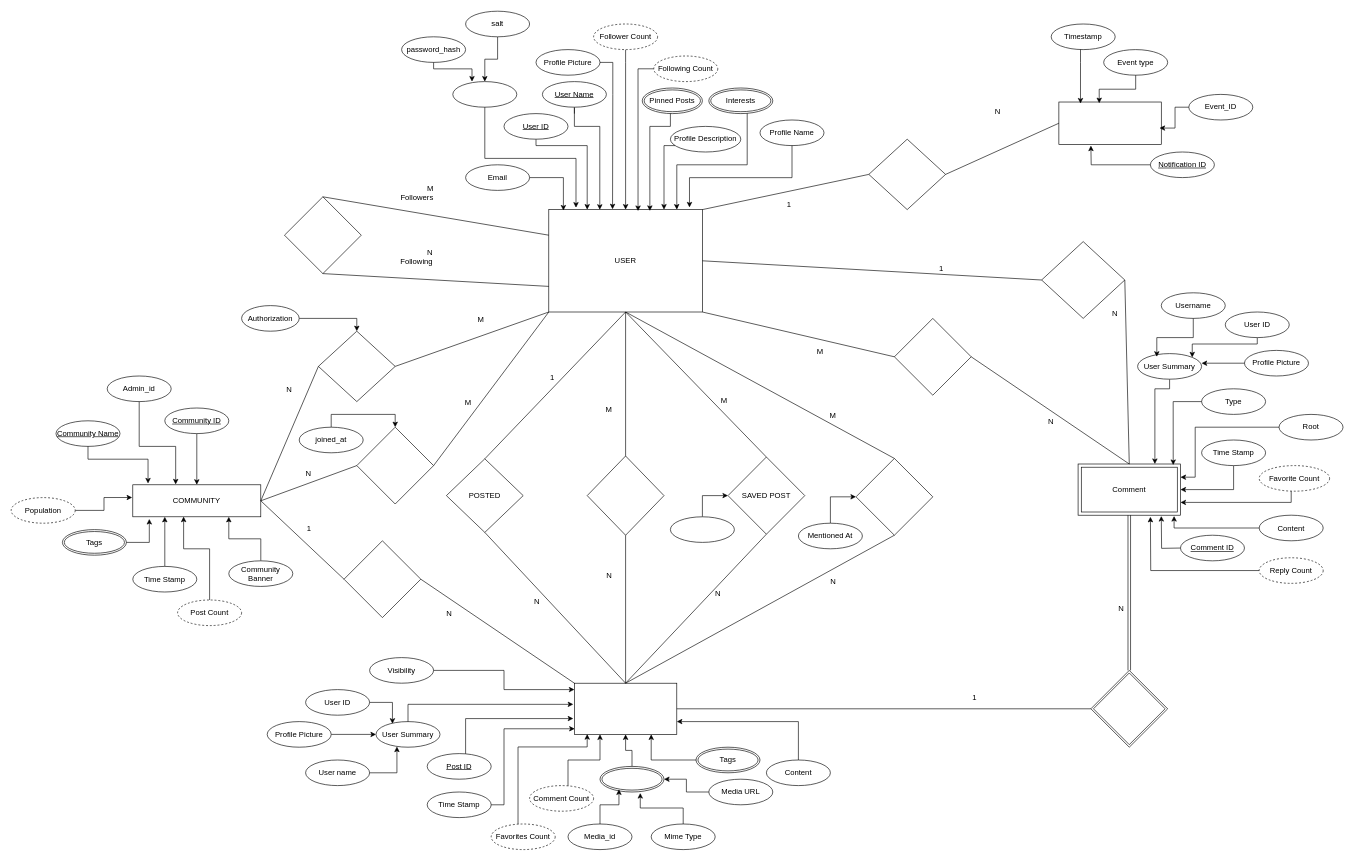
This 1354x861 diagram has some shape labels left out. Each missing label, with the centre of its shape:
ADMIN_OF: (x=356, y=366)
BELONGS TO COMMUNITY: (x=382, y=579)
BELONGS TO POST: (x=1129, y=708)
FOLLOWS: (x=322, y=235)
LIKES_COMMENT: (x=932, y=356)
LIKES_POST: (x=625, y=495)
MEMBER_OF: (x=395, y=465)
MENTIONS: (x=894, y=496)
Multimedia: (x=631, y=779)
NOTIFICATION: (x=1109, y=122)
NOTIFIES: (x=907, y=174)
Password: (x=484, y=94)
POST: (x=625, y=708)
Saved At: (x=702, y=529)
WRITES: (x=1083, y=279)
